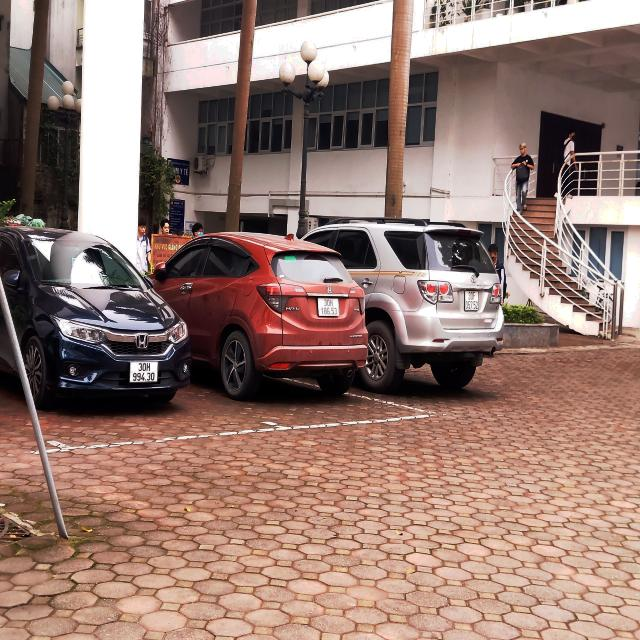license_plate: (131, 362, 159, 383), (319, 299, 340, 317), (465, 289, 480, 312)
